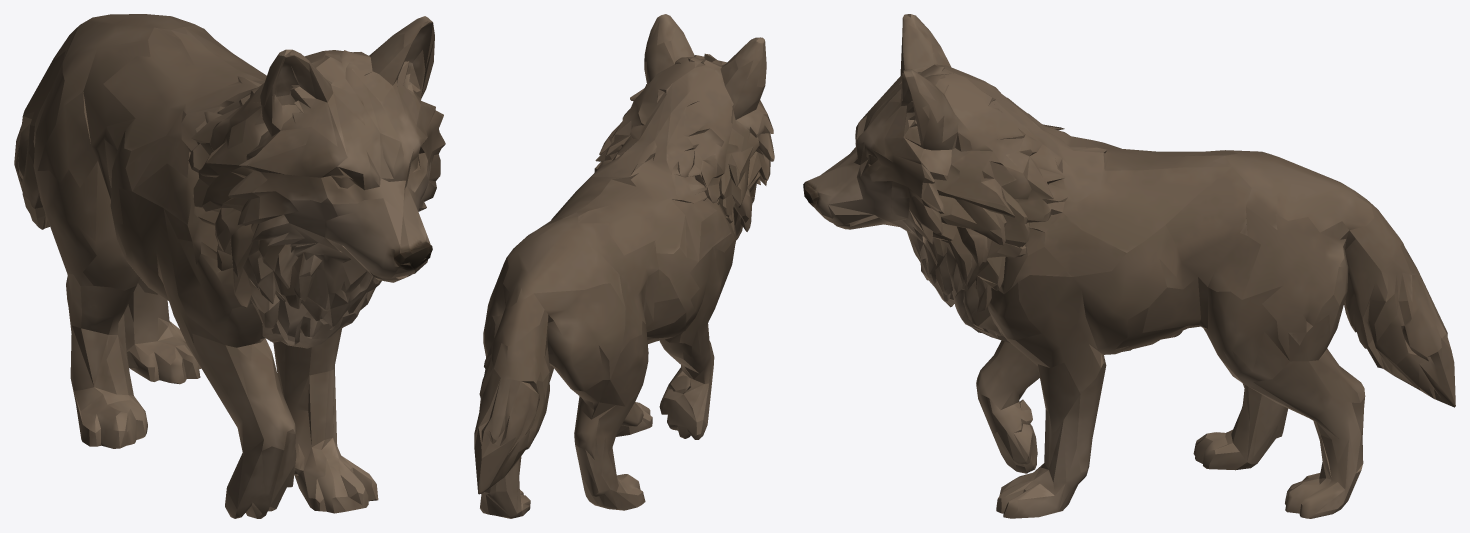
The model's file is wolf.glb.
3 views of the same model, side by side, from view 1: azimuth 30°, elevation 25°; view 2: azimuth 150°, elevation 25°; view 3: azimuth 270°, elevation 25° (orthographic). The views are drawn at different scales.
Bounding box in the file's own units: 0.6128 × 1.43 × 1.9.
1 material, 1 textured.
